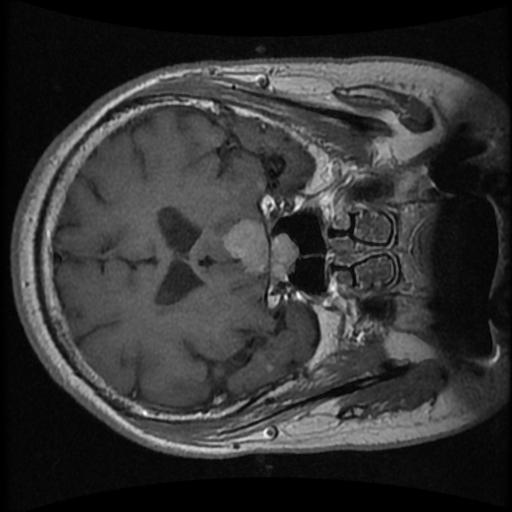pituitary tumour: (222, 219, 298, 281)
